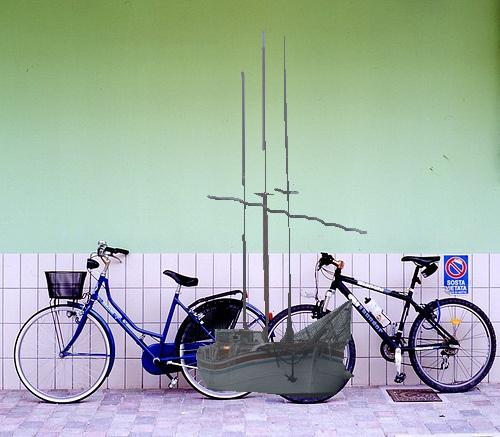tampered: (197, 31, 367, 398)
